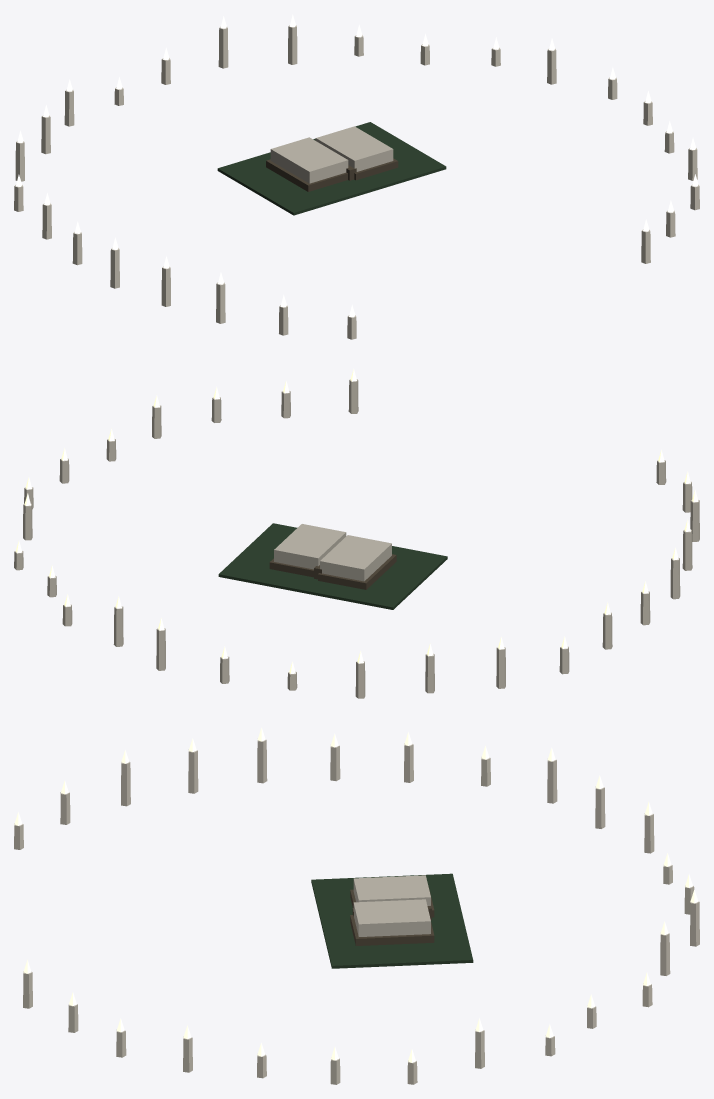
The model's file is chapter_ring.glb.
3 views of the same model, one above another, from view 1: azimuth 30°, elevation 25°; view 2: azimuth 150°, elevation 25°; view 3: azimuth 270°, elevation 25° (orthographic). The views are drawn at different scales.
Parts seen in each view (by area): view 1: bone_d8, moss_d55, bone_d18, kindle_l15_glow, driftwood_d60; view 2: bone_d8, moss_d55, bone_d18, kindle_l15_glow, driftwood_d60; view 3: bone_d8, moss_d55, bone_d18, kindle_l15_glow, driftwood_d60.
Boxes of the visible parts, x1,y1,x2,y2 form: bone_d8: (14, 25, 699, 339); moss_d55: (217, 122, 446, 215); bone_d18: (270, 126, 393, 183); kindle_l15_glow: (15, 14, 698, 317); driftwood_d60: (266, 158, 398, 191); bone_d8: (14, 379, 699, 698); moss_d55: (218, 523, 447, 609); bone_d18: (274, 524, 391, 581); kindle_l15_glow: (16, 368, 698, 673); driftwood_d60: (269, 554, 396, 589); bone_d8: (14, 739, 699, 1084); moss_d55: (311, 873, 473, 968); bone_d18: (353, 875, 430, 936); kindle_l15_glow: (14, 727, 698, 1062); driftwood_d60: (350, 886, 434, 945).
Size of the model in its own units: 4.62 by 0.3881 by 4.35.
